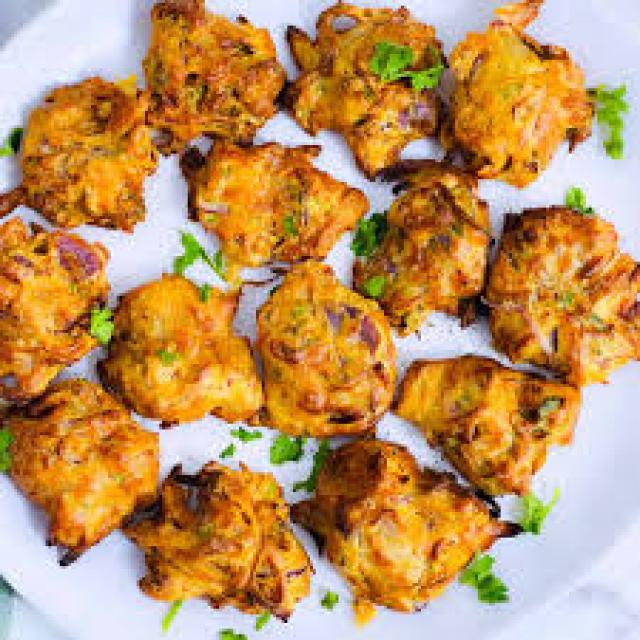BAJI: (296, 448, 500, 614), (489, 198, 637, 381), (139, 464, 313, 619), (444, 2, 582, 195), (390, 356, 577, 497), (185, 135, 367, 277), (2, 387, 153, 556), (296, 8, 450, 167), (107, 277, 262, 421), (263, 266, 392, 437), (0, 216, 104, 404), (363, 165, 485, 320), (151, 0, 280, 138), (23, 87, 147, 225)
